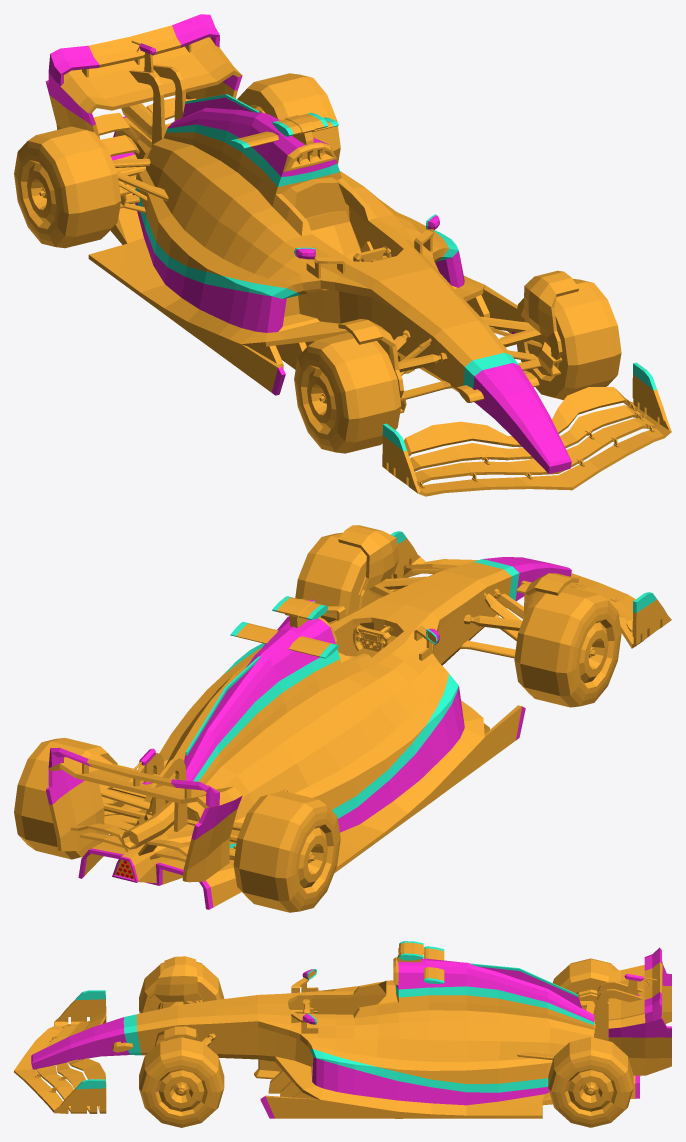
Rendered from SM_Car_Formula_Modern_Racing.fbx.
The picture shows the model from 3 angles, top to bottom: view 1: azimuth 30°, elevation 25°; view 2: azimuth 150°, elevation 25°; view 3: azimuth 270°, elevation 25°; orthographic projection. The views are drawn at different scales.
Visible parts, largest first — view 1: SM_Car_Formula_Modern_Racing_Base, SM_Car_Formula_Modern_Racing_Wheel_RB, SM_Car_Formula_Modern_Racing_Wheel_RF, SM_Car_Formula_Modern_Racing_Wheel_LF, SM_Car_Formula_Modern_Racing_Wheel_LB; view 2: SM_Car_Formula_Modern_Racing_Base, SM_Car_Formula_Modern_Racing_Wheel_RB, SM_Car_Formula_Modern_Racing_Wheel_RF, SM_Car_Formula_Modern_Racing_Wheel_LB, SM_Car_Formula_Modern_Racing_Wheel_LF; view 3: SM_Car_Formula_Modern_Racing_Base, SM_Car_Formula_Modern_Racing_Wheel_LF, SM_Car_Formula_Modern_Racing_Wheel_LB, SM_Car_Formula_Modern_Racing_Wheel_RB, SM_Car_Formula_Modern_Racing_Wheel_RF.
Part boxes in pixels (x1,y1,x2,y2): SM_Car_Formula_Modern_Racing_Base: (45, 14, 671, 496); SM_Car_Formula_Modern_Racing_Wheel_RB: (14, 126, 121, 248); SM_Car_Formula_Modern_Racing_Wheel_RF: (294, 332, 401, 453); SM_Car_Formula_Modern_Racing_Wheel_LF: (515, 279, 621, 399); SM_Car_Formula_Modern_Racing_Wheel_LB: (237, 73, 340, 164); SM_Car_Formula_Modern_Racing_Base: (46, 525, 671, 909); SM_Car_Formula_Modern_Racing_Wheel_RB: (233, 791, 340, 912); SM_Car_Formula_Modern_Racing_Wheel_RF: (514, 586, 621, 707); SM_Car_Formula_Modern_Racing_Wheel_LB: (14, 738, 117, 859); SM_Car_Formula_Modern_Racing_Wheel_LF: (295, 532, 393, 622); SM_Car_Formula_Modern_Racing_Base: (14, 941, 671, 1118); SM_Car_Formula_Modern_Racing_Wheel_LF: (139, 1037, 224, 1127); SM_Car_Formula_Modern_Racing_Wheel_LB: (548, 1037, 633, 1127); SM_Car_Formula_Modern_Racing_Wheel_RB: (553, 958, 618, 1020); SM_Car_Formula_Modern_Racing_Wheel_RF: (139, 962, 224, 1013).
Bounding box in the file's own units: 1.98 × 1.25 × 5.55.
